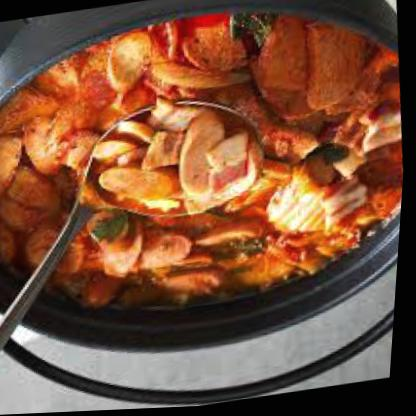budaejjigae: (0, 0, 415, 360)
